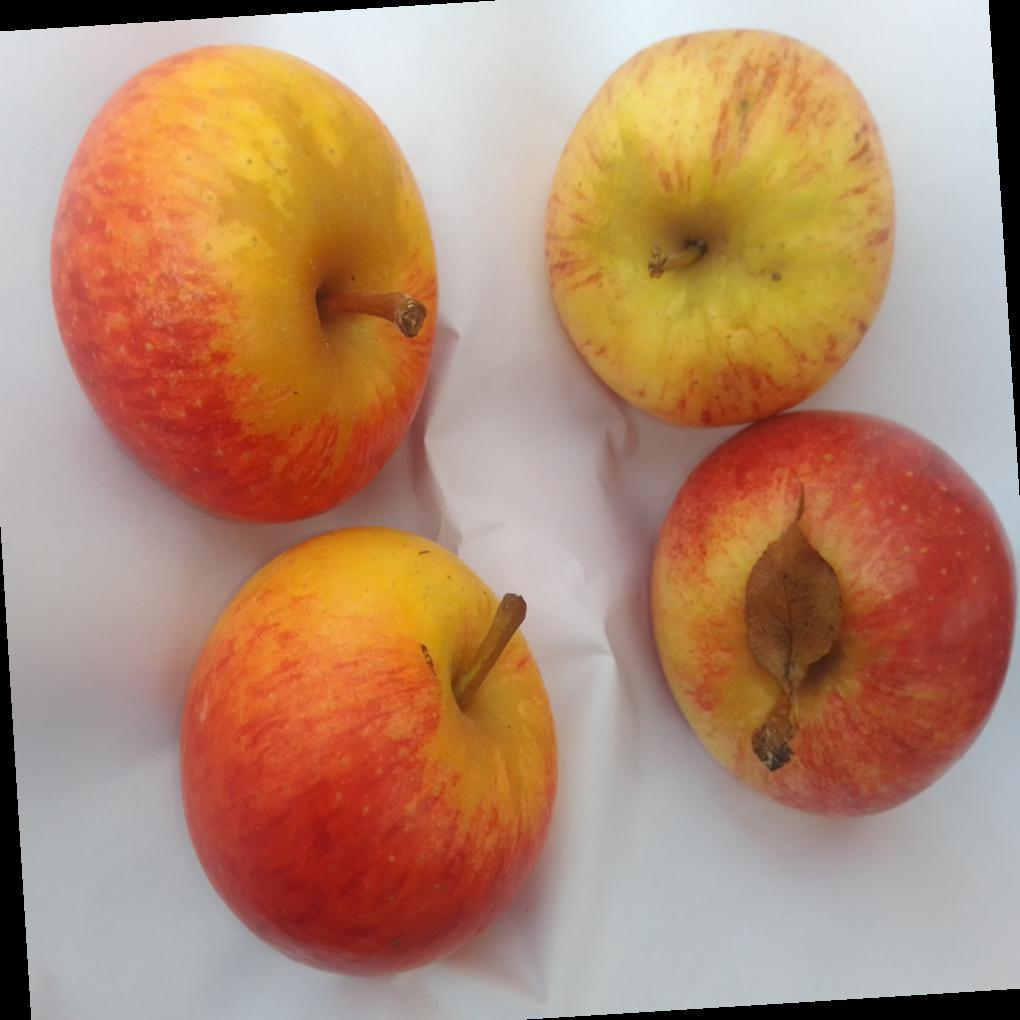FreshGuava: (544, 29, 1016, 820), (49, 44, 439, 526), (178, 528, 559, 981)
